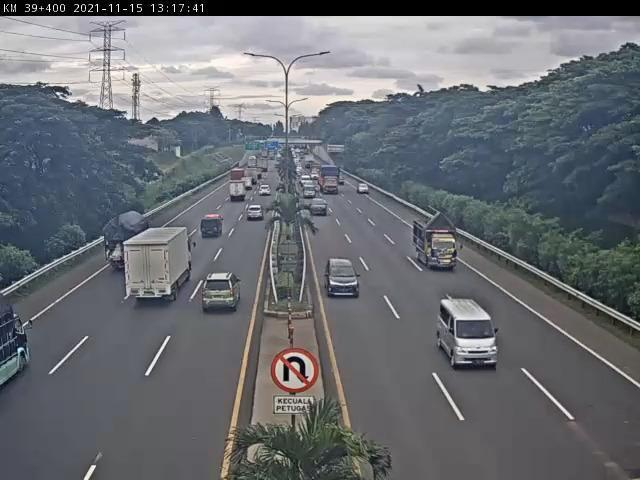bus: (437, 298, 499, 370)
car: (200, 270, 242, 314), (200, 213, 226, 241), (311, 198, 331, 221), (246, 204, 266, 223)
truck: (122, 226, 194, 305), (104, 210, 155, 270), (413, 211, 461, 271), (227, 179, 249, 204)
